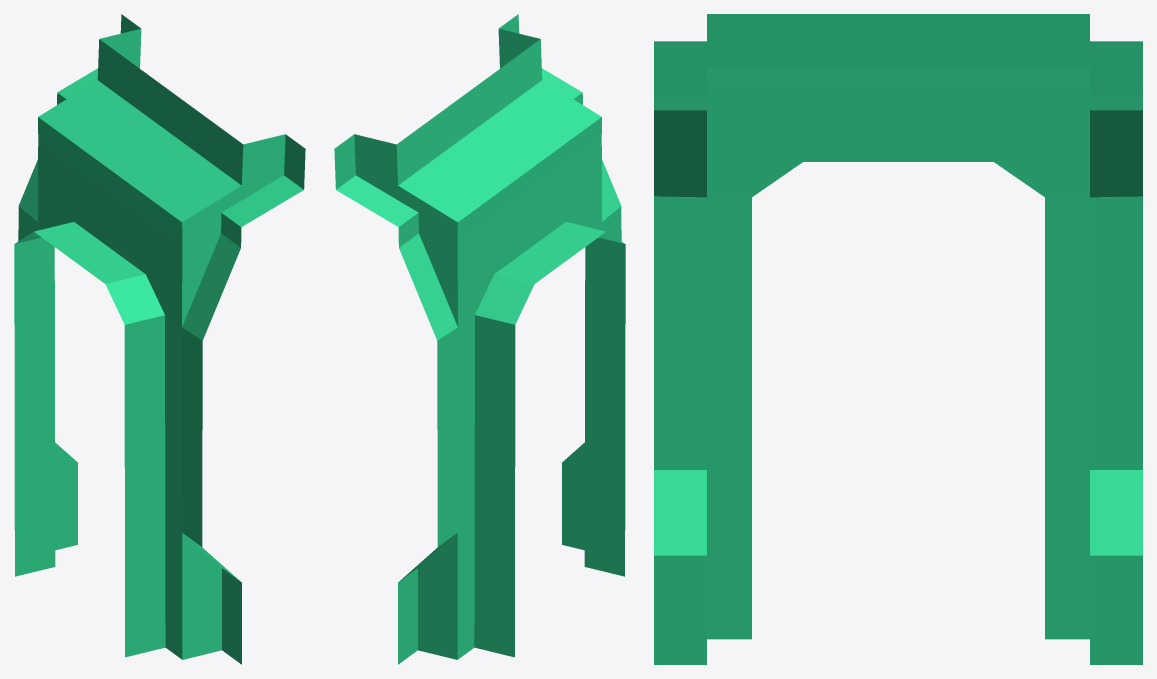
File: ColDoorway.fbx
The picture shows the model from 3 angles, left to right: view 1: azimuth 30°, elevation 25°; view 2: azimuth 150°, elevation 25°; view 3: azimuth 270°, elevation 25°; orthographic projection. The views are drawn at different scales.
Parts seen in each view (by area): view 1: ColDoorway; view 2: ColDoorway; view 3: ColDoorway.
Boxes of the visible parts, x1,y1,x2,y2 form: ColDoorway: [14, 14, 305, 664]; ColDoorway: [334, 14, 625, 664]; ColDoorway: [654, 14, 1142, 664].
Bounding box in the file's own units: 90.27 × 300 × 200.
